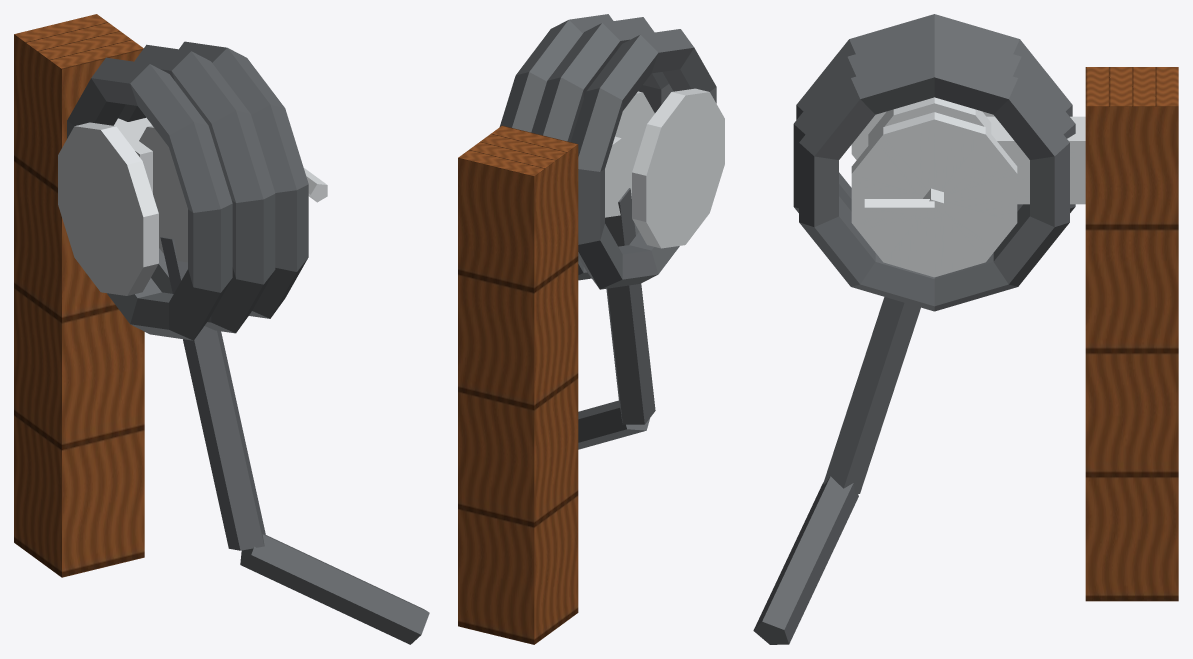
File: allotments-and-community-garden-hose-reel-on-post-e5eb30e2__35159.glb
3 renders of one model, left to right at view 1: azimuth 30°, elevation 25°; view 2: azimuth 150°, elevation 25°; view 3: azimuth 270°, elevation 25°, orthographic. The views are drawn at different scales.
Parts seen in each view (by area): view 1: hose-reel-on-post-timber, reel/charcoal, reel/galv, hose-reel-on-post-charcoal, hose-reel-on-post-galv; view 2: hose-reel-on-post-timber, reel/charcoal, reel/galv, hose-reel-on-post-charcoal, hose-reel-on-post-galv; view 3: hose-reel-on-post-timber, reel/charcoal, reel/galv, hose-reel-on-post-charcoal, hose-reel-on-post-galv.
Boxes of the visible parts, x1,y1,x2,y2 form: hose-reel-on-post-timber: [14, 14, 144, 577]; reel/charcoal: [67, 41, 308, 340]; reel/galv: [58, 122, 327, 295]; hose-reel-on-post-charcoal: [160, 237, 429, 644]; hose-reel-on-post-galv: [114, 117, 152, 193]; hose-reel-on-post-timber: [458, 125, 578, 644]; reel/charcoal: [499, 14, 716, 289]; reel/galv: [605, 88, 724, 248]; hose-reel-on-post-charcoal: [578, 188, 655, 449]; hose-reel-on-post-galv: [605, 136, 621, 209]; hose-reel-on-post-timber: [1085, 67, 1178, 601]; reel/charcoal: [793, 14, 1075, 311]; reel/galv: [851, 97, 1017, 277]; hose-reel-on-post-charcoal: [753, 297, 920, 644]; hose-reel-on-post-galv: [987, 116, 1085, 204].
Bounding box in the file's own units: 0.476 × 1.05 × 0.7317.
Materials: 3 (1 with a texture image).
